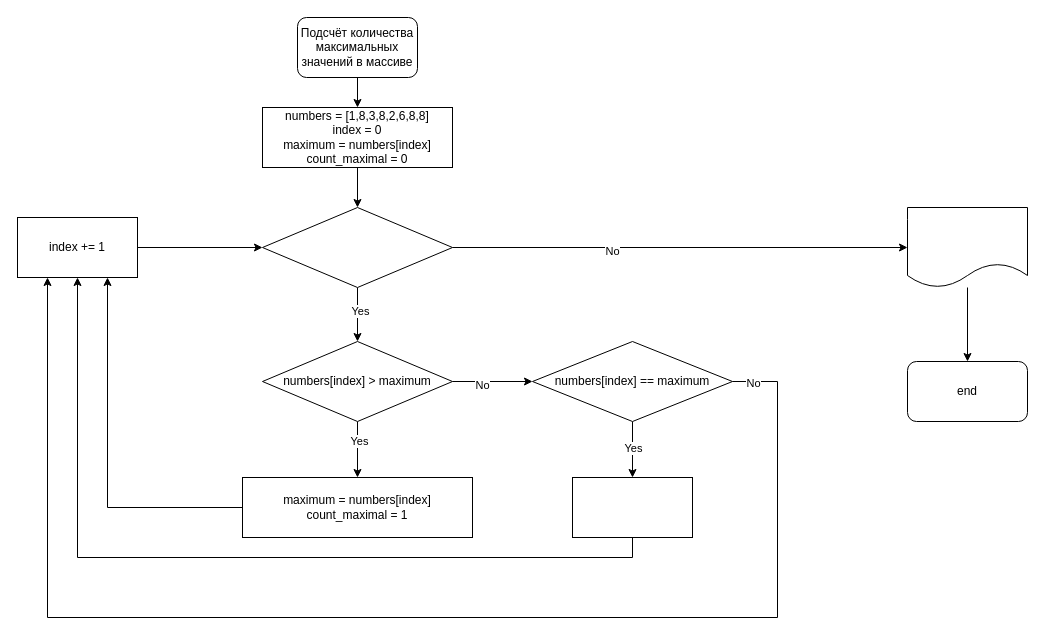
Some shapes in this 1045 by 643 pixel diagram are drawn without their labels. Here are the shapes that lost their labels. From the top down, the centre of each, then its label:
At point 357,247: "index < numbers.length".
At point 967,247: "count_maximal".
At point 632,507: "count_maximal +=1".
